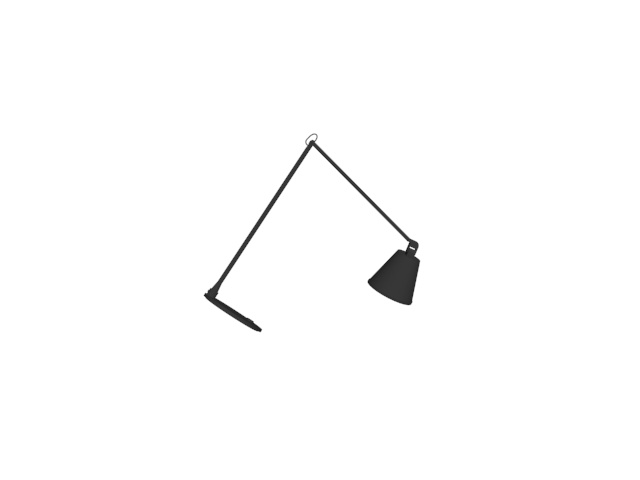desk_lamp: (201, 129, 424, 336)
